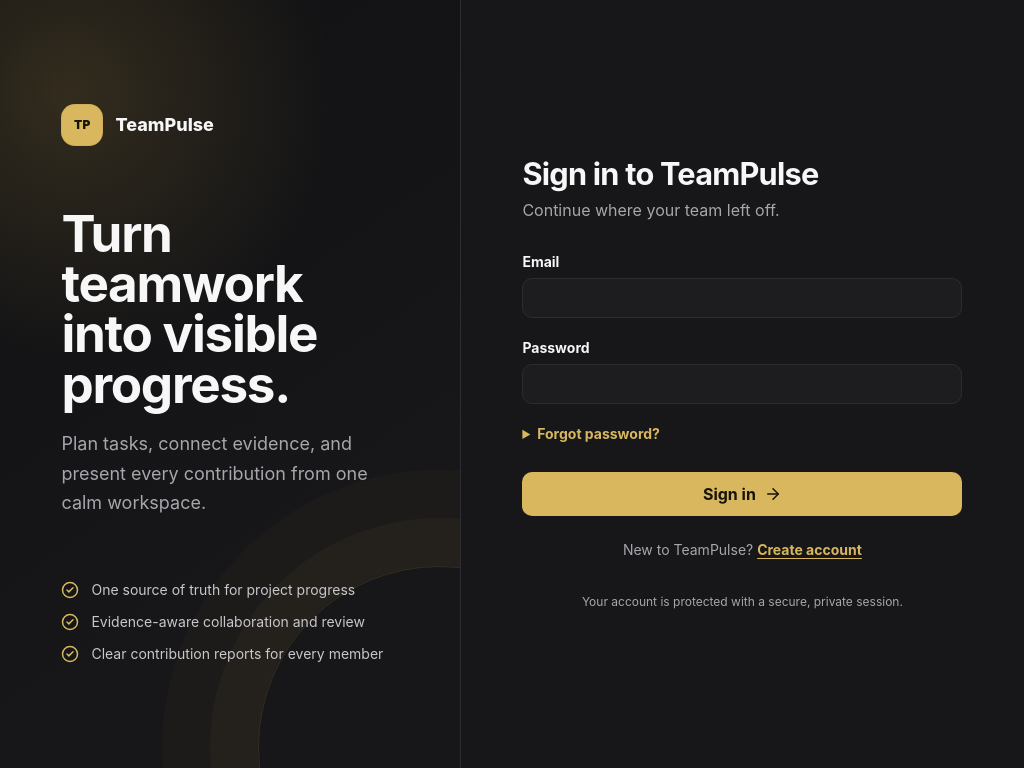
Test: authentication flow › offers an honest recovery path without promising an unavailable reset
This screenshot has width=1024, height=768.
Click the heading "Forgot password?" at [591, 434], box [522, 424, 660, 444]
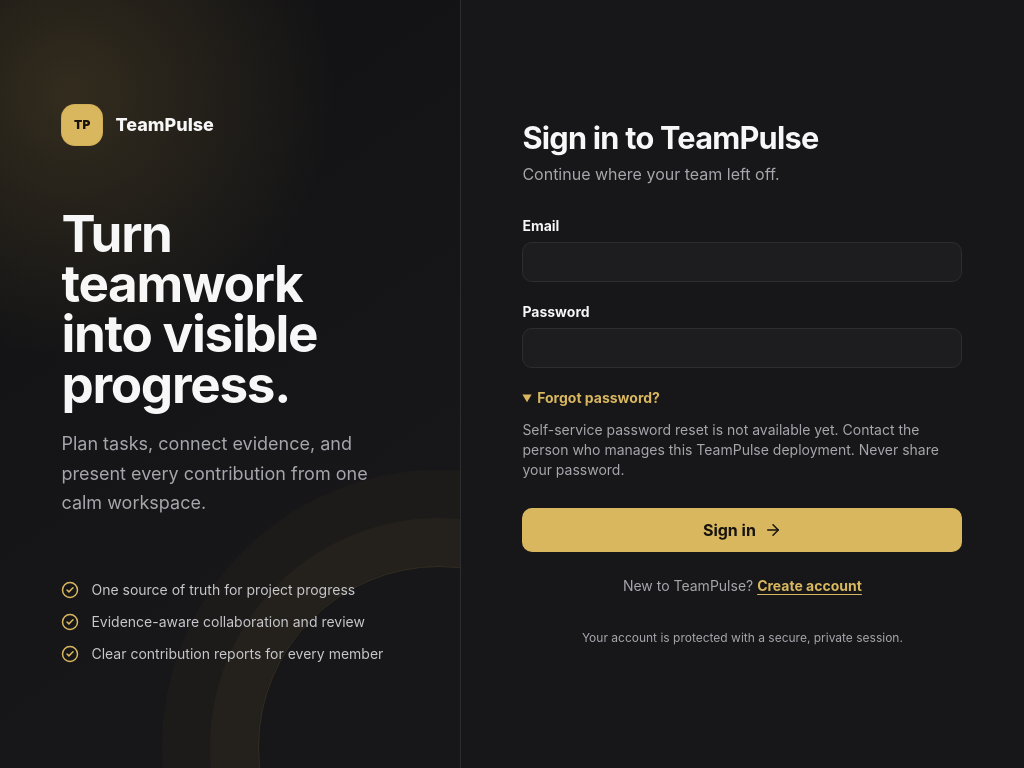
Result: the text "Never share your password" is shown at [522, 421, 939, 478]
